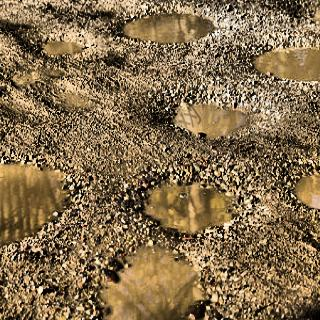pothole: (130, 155, 256, 237), (92, 239, 214, 319), (0, 158, 80, 250), (167, 87, 265, 142), (113, 7, 221, 44), (249, 42, 320, 83), (286, 160, 320, 211), (38, 35, 89, 58)
